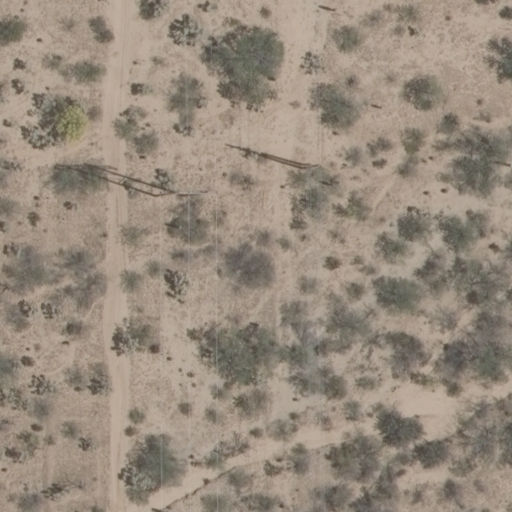DT: (150, 182, 222, 212), (293, 158, 330, 176)
